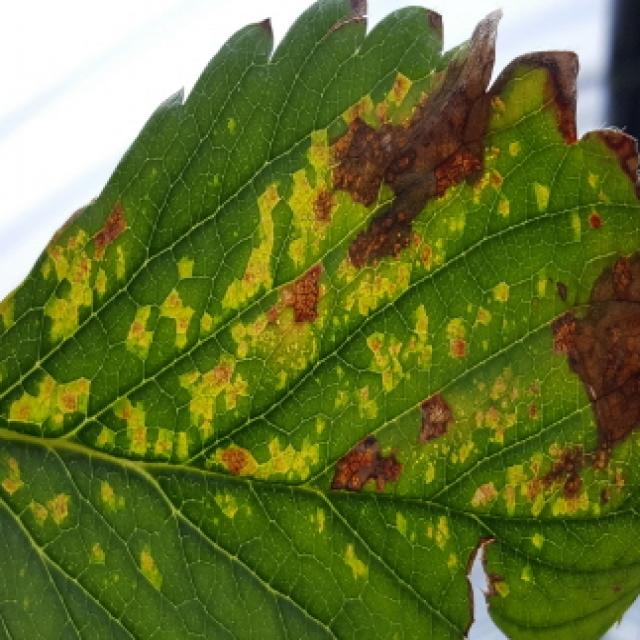Angular Leafspot: (0, 0, 640, 640)
